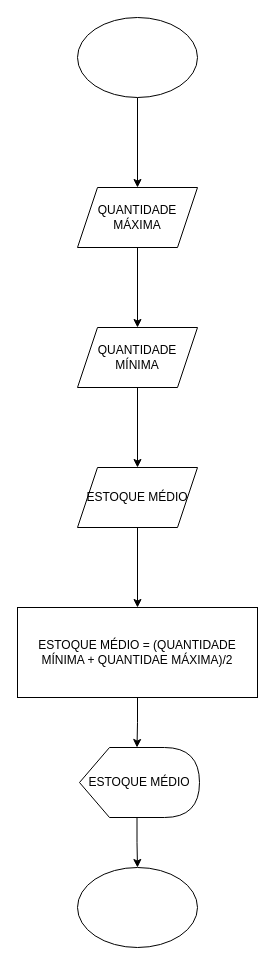
Image size: 275x965. Some labels were removed from this diagram. The shapes that lost their labels are listed below. From the top down, each one's box as (x1, y1, x2, y2) in pixels, then its label:
(76, 16, 198, 98): INÍCIO
(76, 866, 198, 948): FIM
